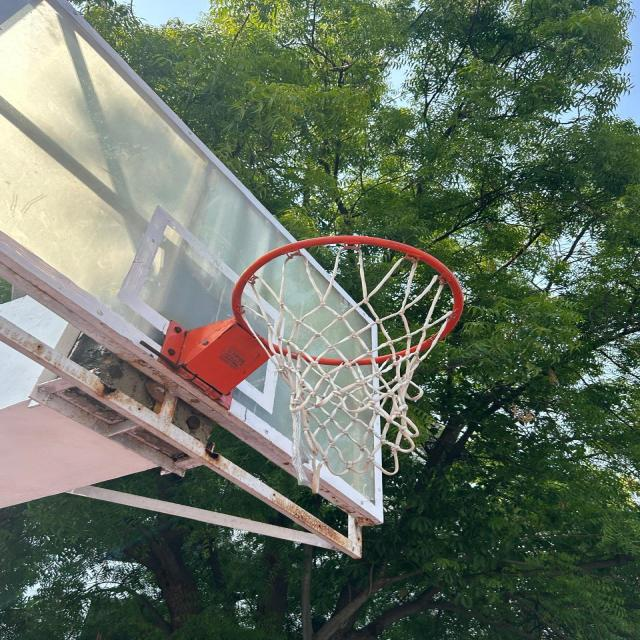hoop: (180, 233, 489, 503)
